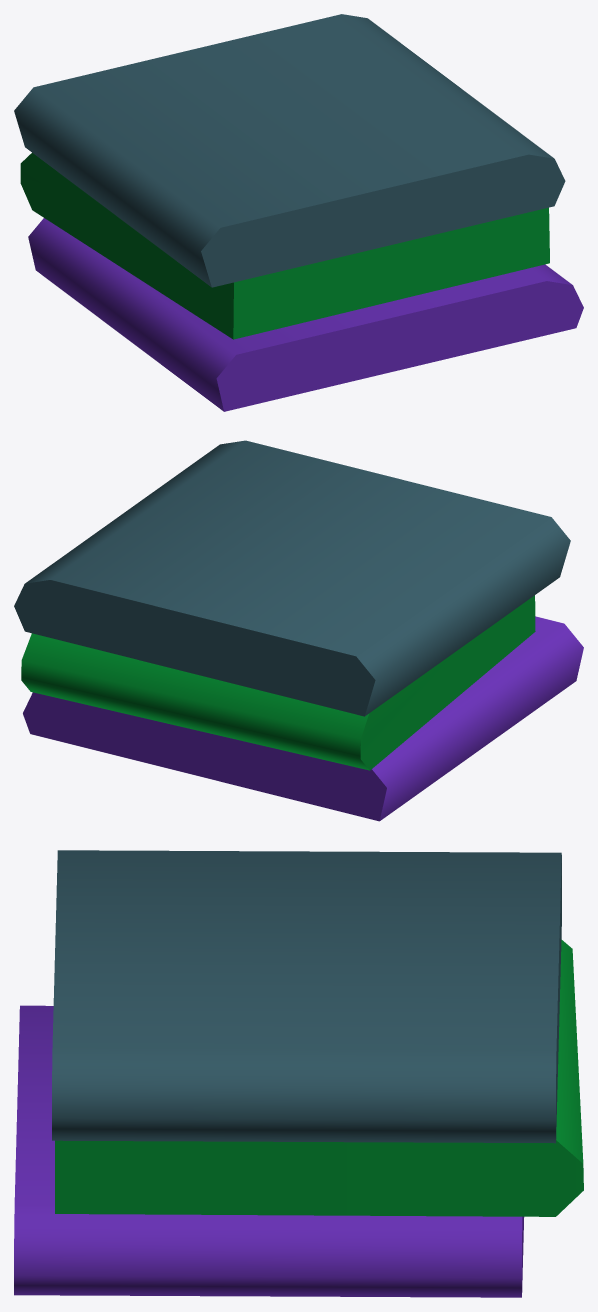
Rendered from shop_014.glb.
The picture shows the model from 3 angles, top to bottom: view 1: azimuth 30°, elevation 25°; view 2: azimuth 150°, elevation 25°; view 3: azimuth 270°, elevation 25°; orthographic projection. The views are drawn at different scales.
Visible parts, largest first — view 1: shop_014; view 2: shop_014; view 3: shop_014.
Boxes of the visible parts, bbox=[...] form: shop_014: bbox=[14, 14, 583, 411]; shop_014: bbox=[14, 440, 583, 821]; shop_014: bbox=[14, 850, 583, 1297].
Bounding box in the file's own units: 0.4066 × 0.1796 × 0.4104.
1 material, 1 textured.
